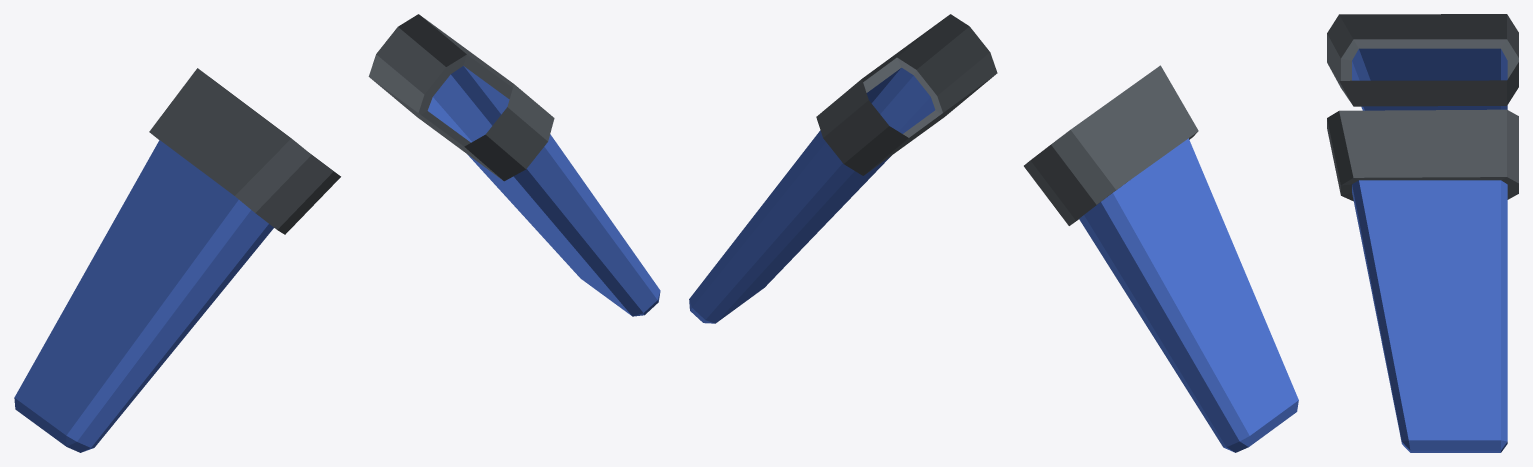
Rendered from Personal_Vehicle_04_Rear_Wings_Blue.fbx.
3 renders of one model, left to right at view 1: azimuth 30°, elevation 25°; view 2: azimuth 150°, elevation 25°; view 3: azimuth 270°, elevation 25°, orthographic. The views are drawn at different scales.
Visible parts, largest first — view 1: Personal_Vehicle_04_Rear_Wings_Blue; view 2: Personal_Vehicle_04_Rear_Wings_Blue; view 3: Personal_Vehicle_04_Rear_Wings_Blue.
Part boxes in pixels (left/top/right/bottom): Personal_Vehicle_04_Rear_Wings_Blue: left=14, top=14, right=660, bottom=452; Personal_Vehicle_04_Rear_Wings_Blue: left=689, top=14, right=1298, bottom=452; Personal_Vehicle_04_Rear_Wings_Blue: left=1327, top=14, right=1518, bottom=452.
Bounding box in the file's own units: 111 × 54.22 × 35.07.
1 material, 1 textured.
